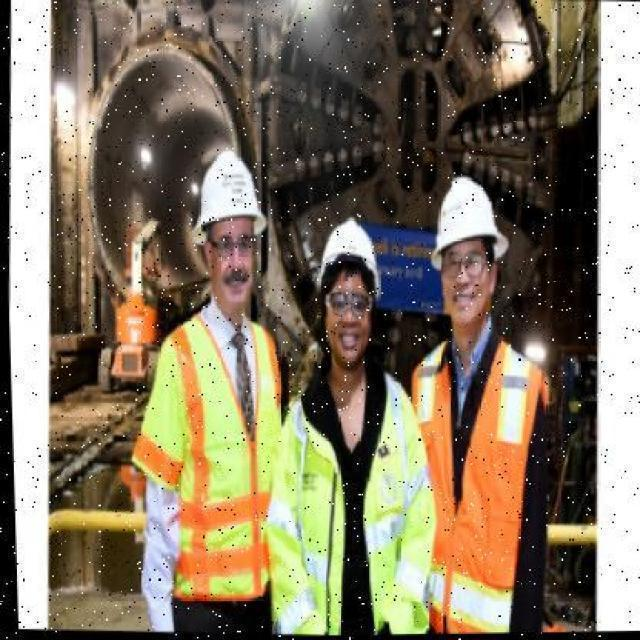helmet: (421, 174, 508, 271), (188, 147, 269, 242), (313, 212, 391, 294)
vest: (142, 292, 280, 603), (406, 351, 553, 634), (289, 368, 419, 626)
